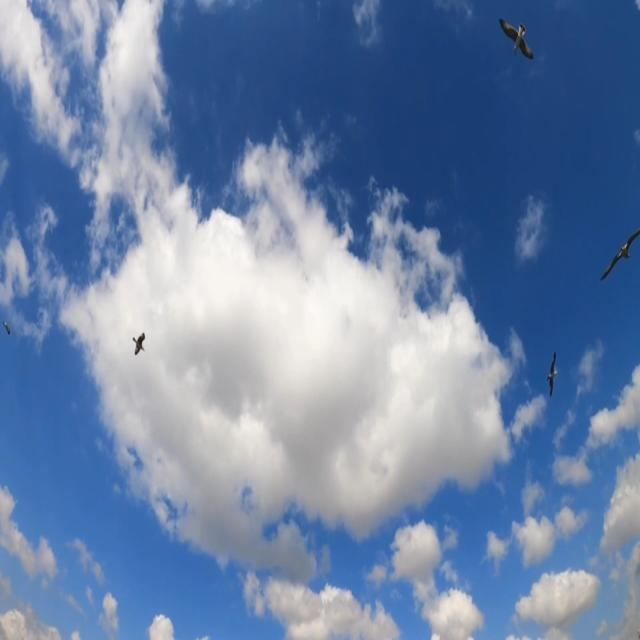bird: (578, 191, 640, 317), (491, 0, 548, 74), (529, 338, 575, 426), (118, 308, 158, 379), (0, 298, 22, 362)
